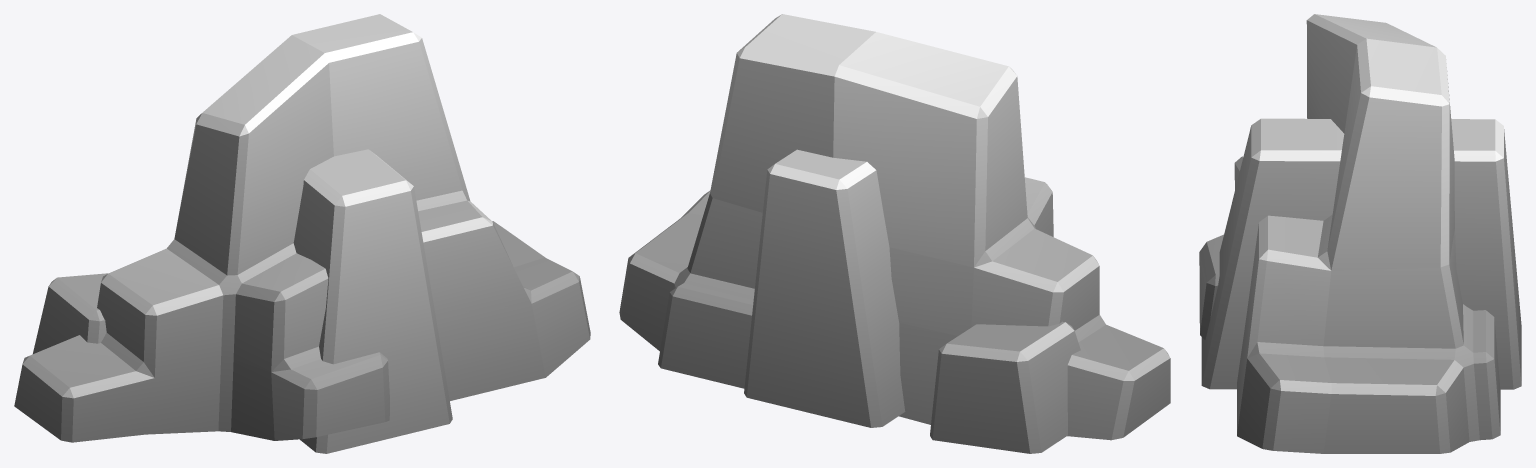
The model's file is Rock Large 3.glb.
3 renders of one model, left to right at view 1: azimuth 30°, elevation 25°; view 2: azimuth 150°, elevation 25°; view 3: azimuth 270°, elevation 25°, orthographic.
Parts seen in each view (by area): view 1: Rock Large 3; view 2: Rock Large 3; view 3: Rock Large 3.
Part boxes in pixels (x1,y1,x2,y2): Rock Large 3: [14, 14, 590, 453]; Rock Large 3: [619, 14, 1170, 453]; Rock Large 3: [1199, 14, 1521, 453].
Bounding box in the file's own units: 7.28 × 4.55 × 4.02.
1 material, 1 textured.
